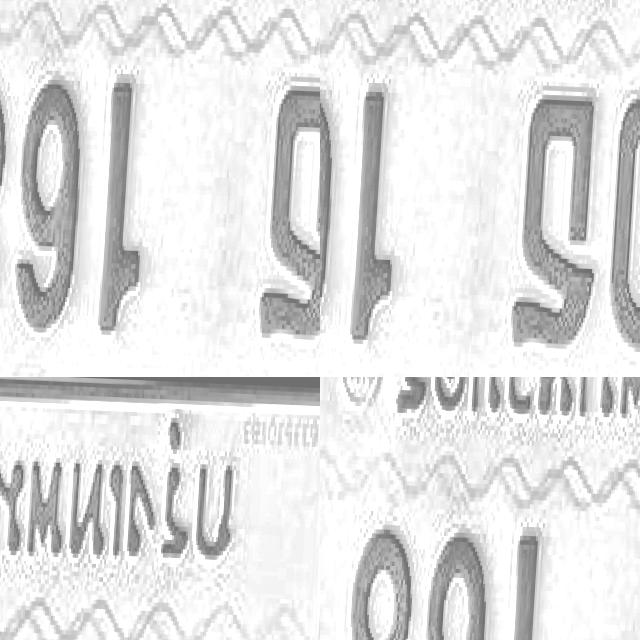license-plate: (0, 0, 320, 377), (0, 377, 320, 640), (320, 377, 640, 640), (503, 144, 640, 377)
